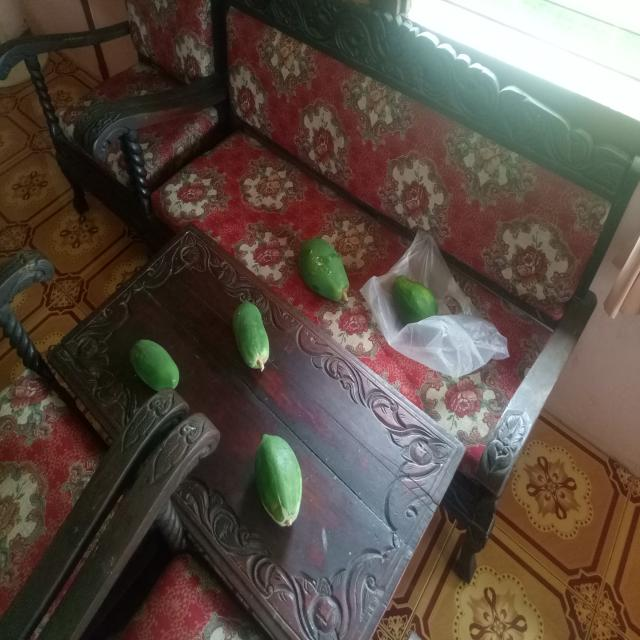Pepaya unrippen: (252, 433, 304, 532), (119, 332, 190, 398), (303, 234, 355, 308), (385, 269, 450, 325), (230, 302, 276, 374)
